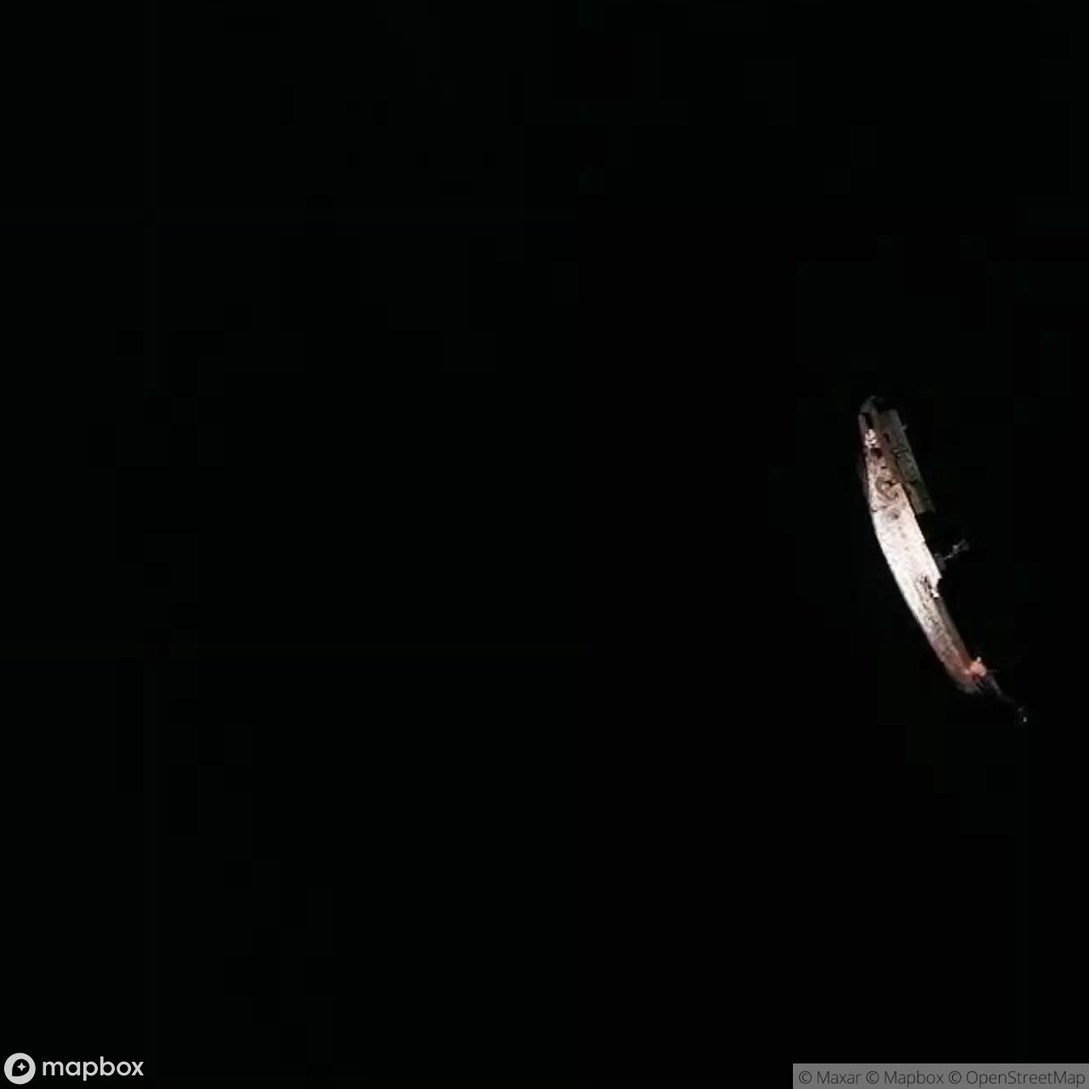Wreck: (838, 391, 1018, 700)
